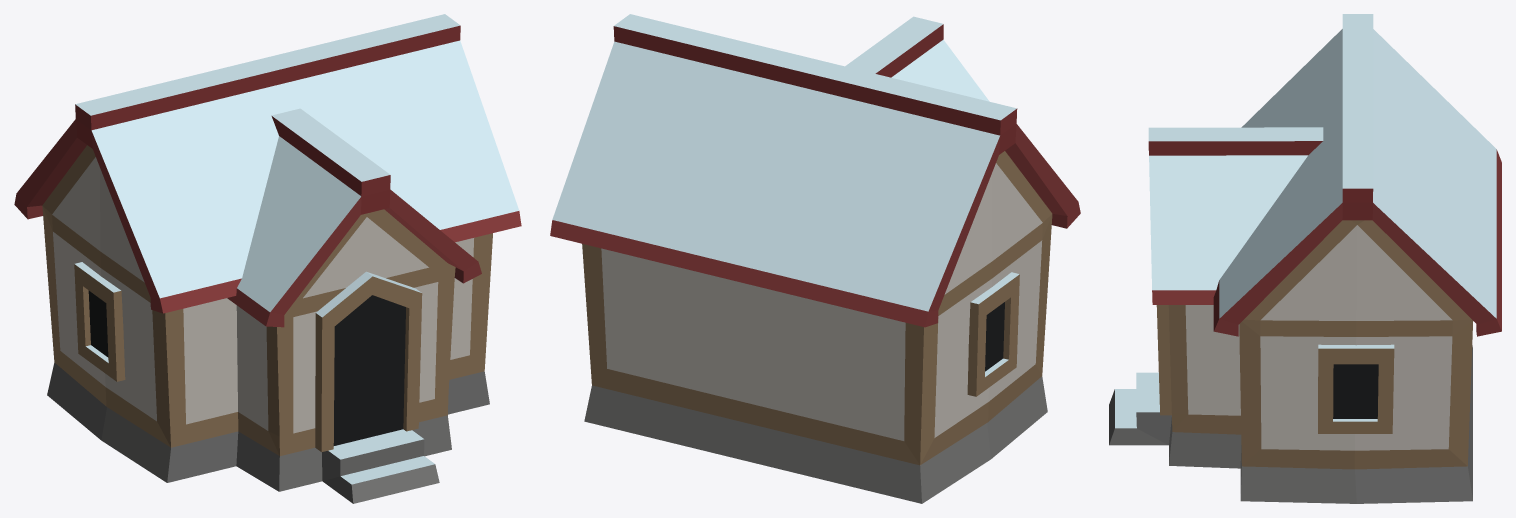
The model's file is SM_Bld_Knights_House_01_Snow.fbx.
The picture shows the model from 3 angles, left to right: view 1: azimuth 30°, elevation 25°; view 2: azimuth 150°, elevation 25°; view 3: azimuth 270°, elevation 25°; orthographic projection. The views are drawn at different scales.
Visible parts, largest first — view 1: SM_Bld_Knights_House_01_Snow; view 2: SM_Bld_Knights_House_01_Snow; view 3: SM_Bld_Knights_House_01_Snow.
Boxes of the visible parts, left/top/right/bottom form: SM_Bld_Knights_House_01_Snow: left=14, top=14, right=521, bottom=503; SM_Bld_Knights_House_01_Snow: left=550, top=14, right=1080, bottom=503; SM_Bld_Knights_House_01_Snow: left=1109, top=14, right=1501, bottom=503.
Size of the model in its own units: 104 by 89.47 by 98.41.
1 material, 1 textured.
